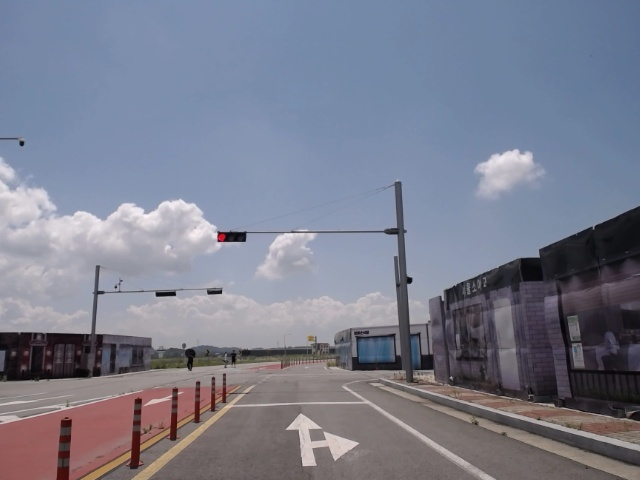red_3: (217, 231, 248, 245)
